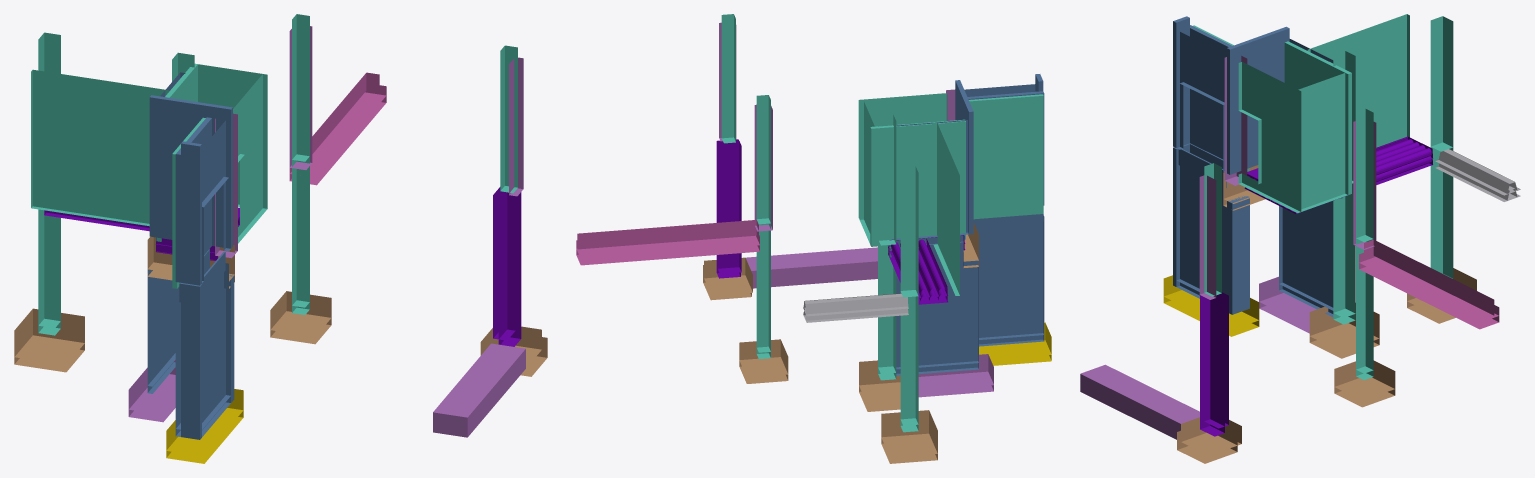
3 views of the same model, side by side, from view 1: azimuth 30°, elevation 25°; view 2: azimuth 150°, elevation 25°; view 3: azimuth 270°, elevation 25° (orthographic). The views are drawn at different scales.
Size of the model in its own units: 12.67 by 9.59 by 13.28.
